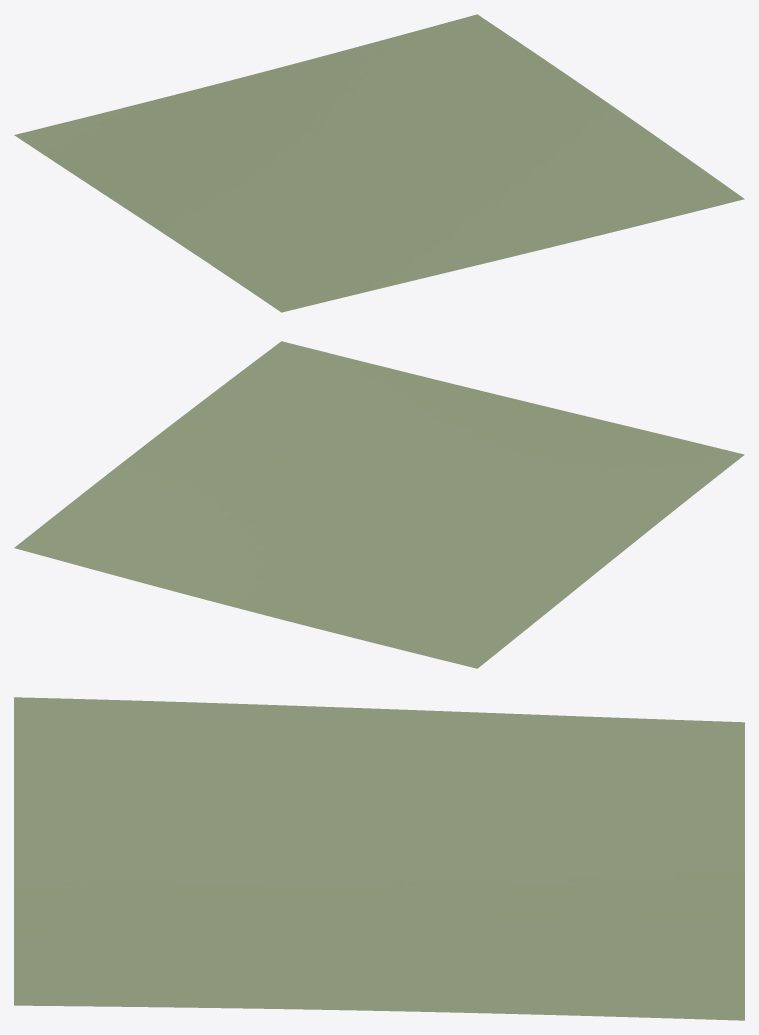
The model's file is expanse-0-21.glb.
3 renders of one model, top to bottom at view 1: azimuth 30°, elevation 25°; view 2: azimuth 150°, elevation 25°; view 3: azimuth 270°, elevation 25°, orthographic. The views are drawn at different scales.
Parts seen in each view (by area): view 1: expanse-0-21; view 2: expanse-0-21; view 3: expanse-0-21.
Boxes of the visible parts, bbox=[...] form: expanse-0-21: bbox=[14, 14, 744, 312]; expanse-0-21: bbox=[14, 341, 744, 668]; expanse-0-21: bbox=[14, 697, 744, 1020].
Bounding box in the file's own units: 256 × 9.88 × 256.
